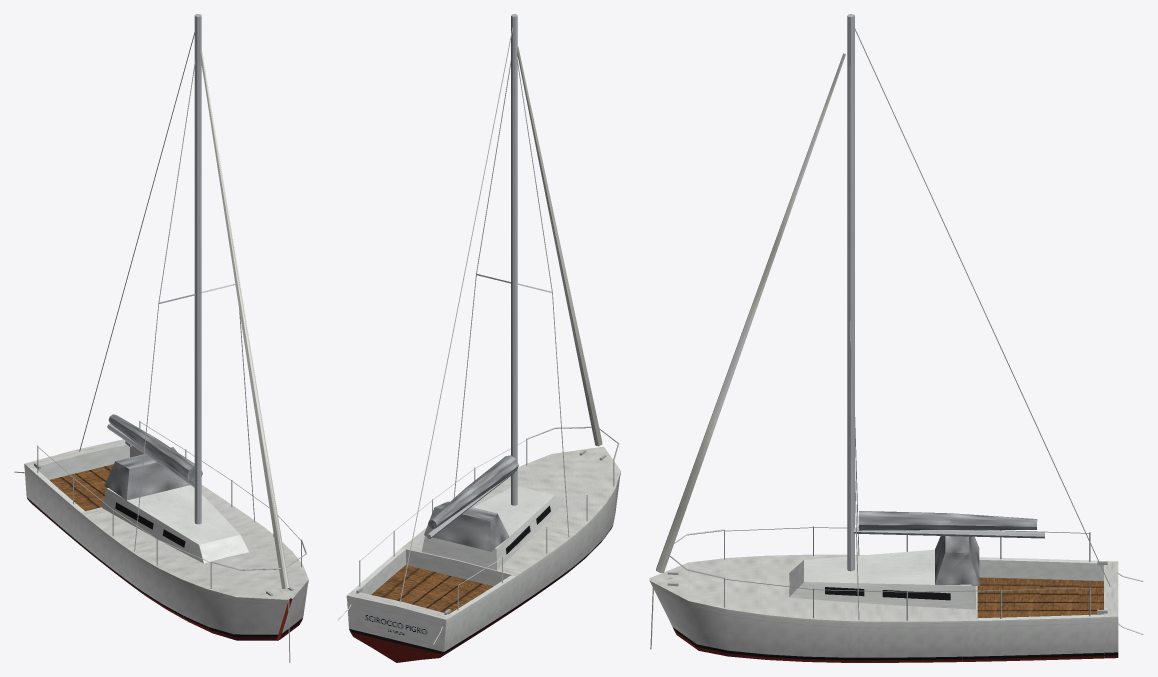
Rendered from SM_Morin_Barca_Vela9_CoprirandaGrigio.fbx.
3 views of the same model, side by side, from view 1: azimuth 30°, elevation 25°; view 2: azimuth 150°, elevation 25°; view 3: azimuth 270°, elevation 25° (orthographic). The views are drawn at different scales.
Parts seen in each view (by area): view 1: SM_Morin_Barca_Vela9_CoprirandaGrigio; view 2: SM_Morin_Barca_Vela9_CoprirandaGrigio; view 3: SM_Morin_Barca_Vela9_CoprirandaGrigio.
Boxes of the visible parts, box(x1,y1,x2,y2) form: SM_Morin_Barca_Vela9_CoprirandaGrigio: box(14, 14, 308, 662); SM_Morin_Barca_Vela9_CoprirandaGrigio: box(337, 14, 620, 662); SM_Morin_Barca_Vela9_CoprirandaGrigio: box(649, 14, 1143, 662).
Size of the model in its own units: 300 by 943 by 1340.
1 material, 1 textured.
